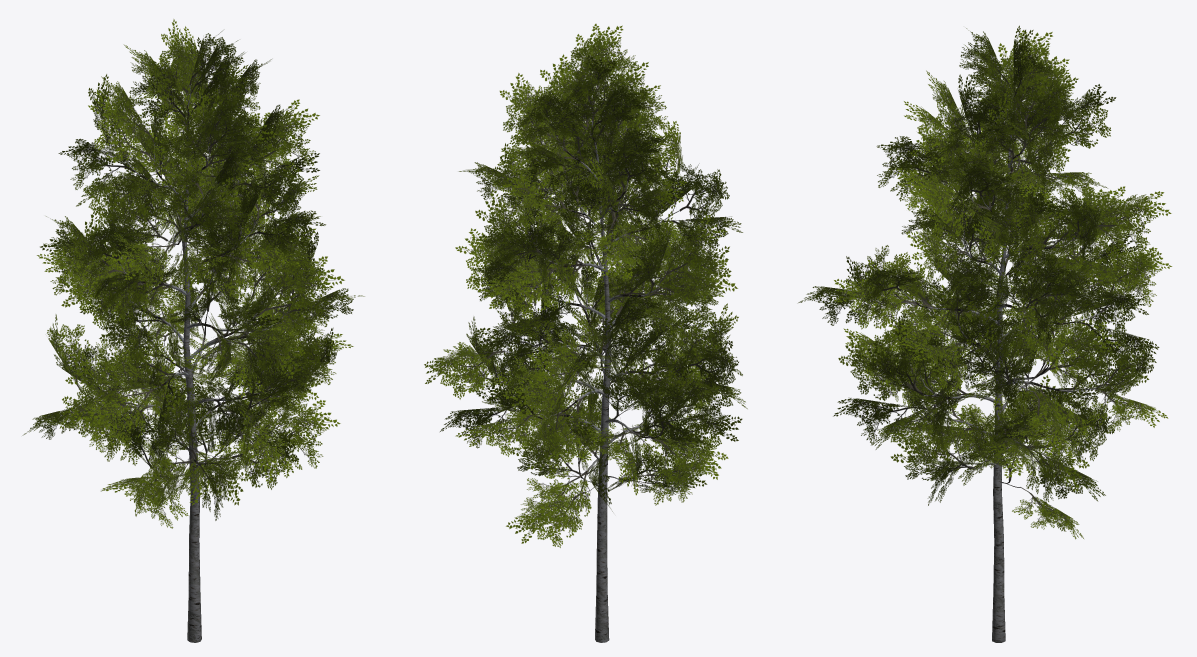
The model's file is forest-birch-tree-v1-optimized.glb.
The picture shows the model from 3 angles, left to right: view 1: azimuth 30°, elevation 25°; view 2: azimuth 150°, elevation 25°; view 3: azimuth 270°, elevation 25°; orthographic projection.
Parts seen in each view (by area): view 1: BirchTree; view 2: BirchTree; view 3: BirchTree.
Boxes of the visible parts, x1,y1,x2,y2 form: BirchTree: (22, 19, 364, 642); BirchTree: (424, 23, 747, 642); BirchTree: (798, 25, 1171, 642).
Bounding box in the file's own units: 2.55 × 4.8 × 2.71.
2 materials, 2 textured.
